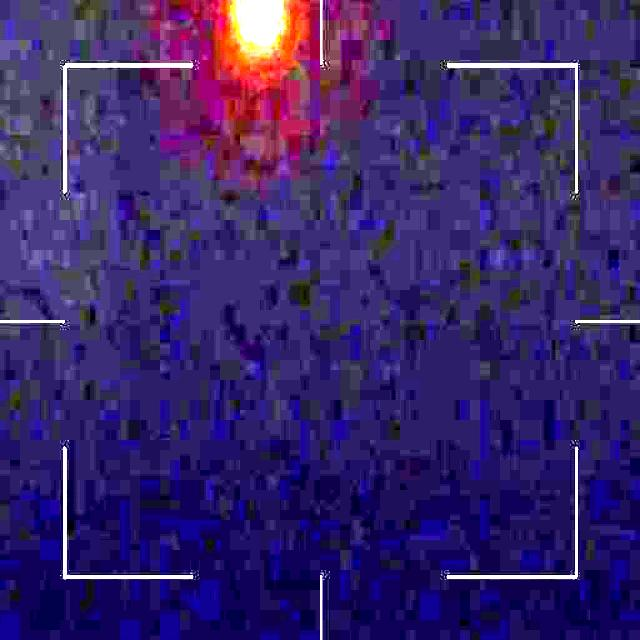bird: (234, 0, 282, 44)
